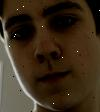without_mask: (1, 2, 100, 112)
